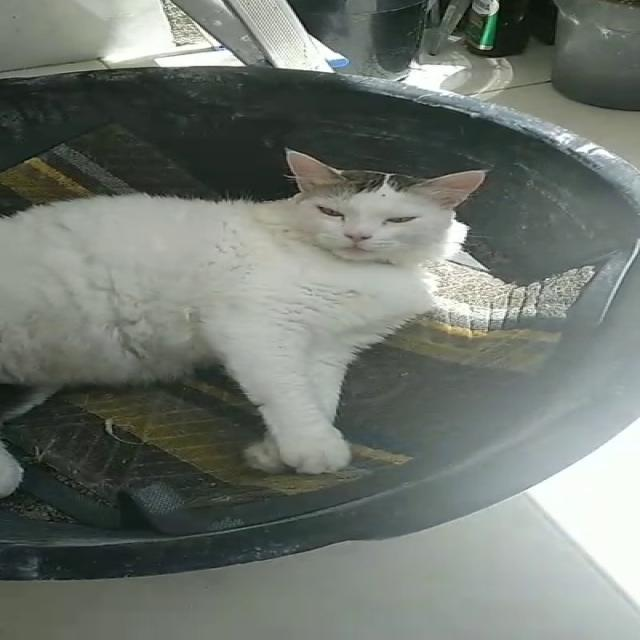Simba: (2, 129, 524, 538)
